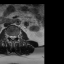CCS_normal: (12, 34, 14, 41)
LFS_normal: (16, 33, 18, 39)
LLS_normal: (14, 34, 16, 40)
RFS_normal: (8, 33, 10, 39)
RLS_normal: (10, 33, 12, 40)
